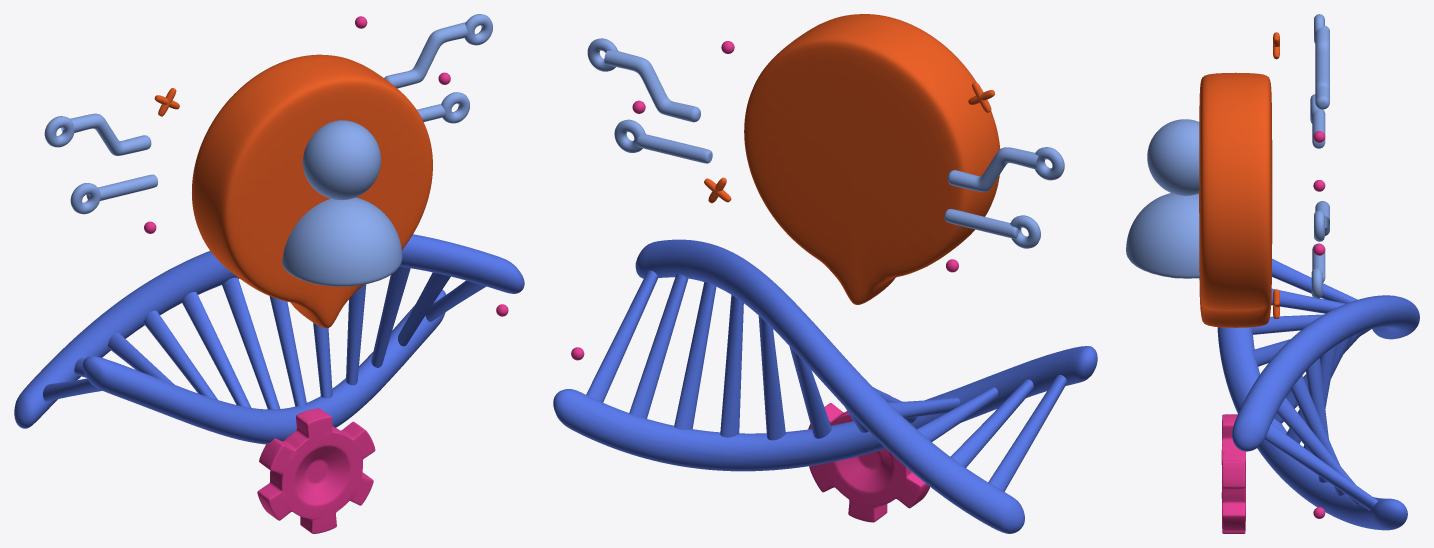
The model's file is genetic-engineering-3d-animated-icon-1660076848814.glb.
The picture shows the model from 3 angles, left to right: view 1: azimuth 30°, elevation 25°; view 2: azimuth 150°, elevation 25°; view 3: azimuth 270°, elevation 25°; orthographic projection. The views are drawn at different scales.
Parts seen in each view (by area): view 1: dna, bubble, gear, people.001, people, trail.007, trail.002, trail, trail.008; view 2: dna, bubble, gear, trail.007, trail.002, trail.008, trail; view 3: dna, bubble, people.001, people, gear, trail.002, trail.008, trail.007, trail.
Part boxes in pixels (x1,y1,x2,y2): dna: [14, 234, 524, 444]; bubble: [192, 54, 432, 328]; gear: [257, 408, 375, 533]; people.001: [282, 197, 402, 286]; people: [302, 120, 380, 200]; trail.007: [384, 14, 492, 88]; trail.002: [44, 113, 151, 155]; trail: [70, 174, 157, 214]; trail.008: [417, 92, 469, 123]; dna: [553, 239, 1097, 533]; bubble: [744, 14, 1000, 304]; gear: [808, 393, 929, 522]; trail.007: [587, 38, 700, 122]; trail.002: [947, 147, 1064, 192]; trail.008: [614, 119, 712, 163]; trail: [944, 209, 1040, 248]; dna: [1217, 258, 1419, 530]; bubble: [1199, 72, 1272, 327]; people.001: [1126, 193, 1199, 278]; people: [1147, 119, 1199, 195]; gear: [1221, 414, 1245, 533]; trail.002: [1314, 14, 1329, 109]; trail.008: [1311, 243, 1325, 298]; trail.007: [1314, 201, 1329, 241]; trail: [1310, 94, 1325, 148].
Size of the model in its own units: 5.86 by 5.59 by 3.36.
